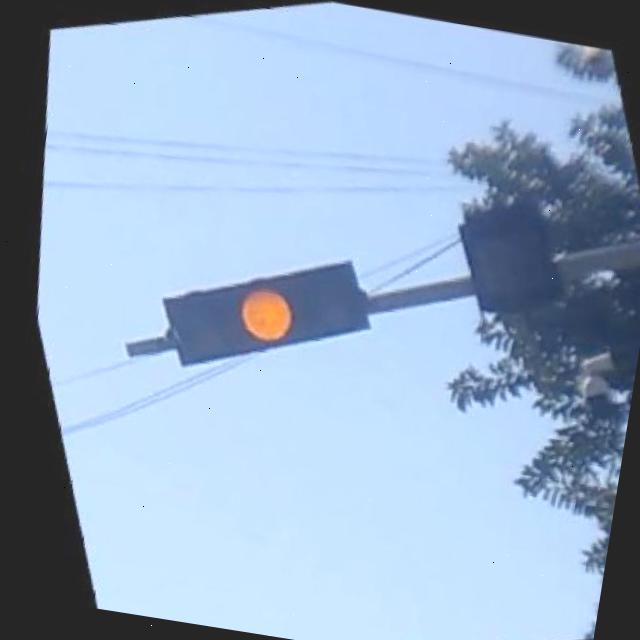yellow_light: (127, 223, 386, 402)
